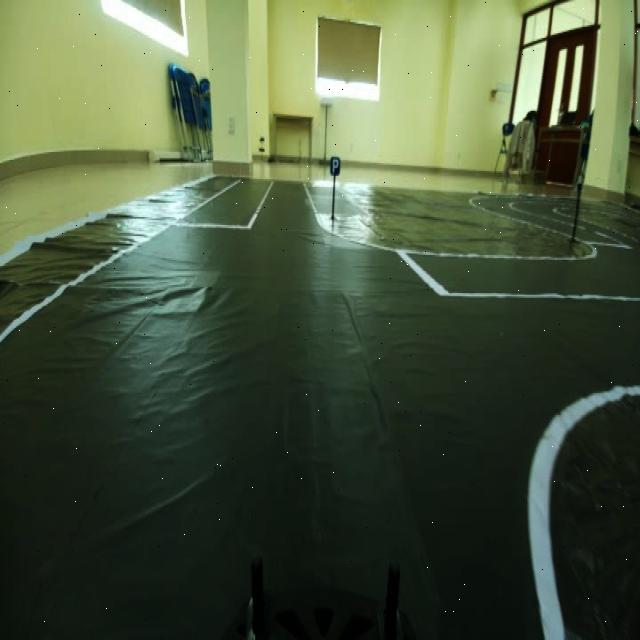parking: (327, 153, 344, 181)
